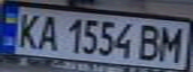1: (63, 16, 84, 54)
4: (115, 20, 139, 60)
5: (78, 16, 100, 56), (97, 18, 118, 56)
A: (33, 12, 63, 52)
B: (136, 21, 166, 61)
K: (12, 10, 45, 51)
M: (154, 24, 187, 63)
